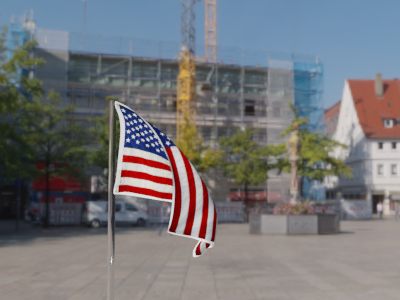America flag: (114, 99, 219, 260)
